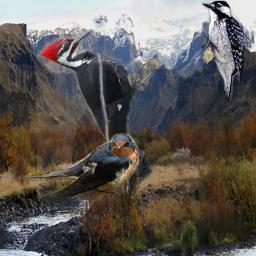Swallow: (17, 133, 139, 201)
Woodpecker: (37, 29, 153, 199), (201, 0, 245, 101)
